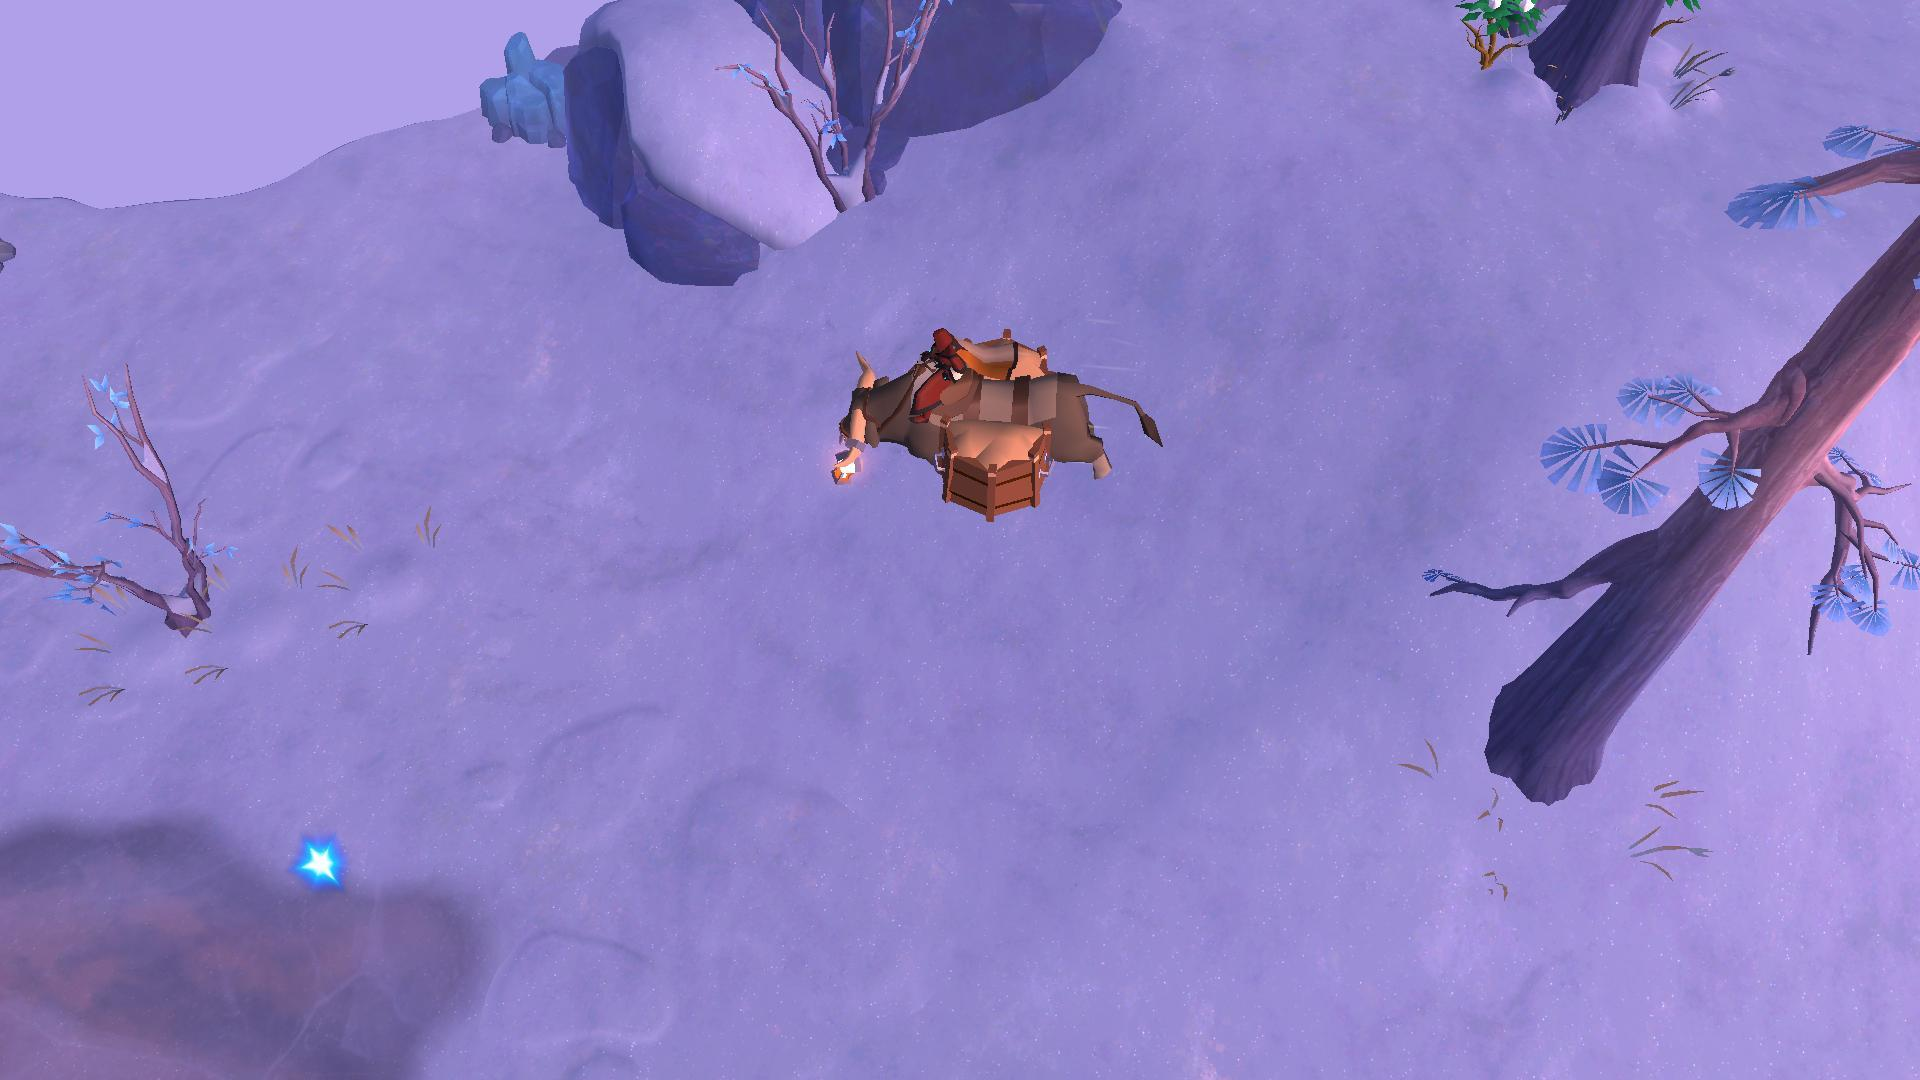fiber_t3: (1453, 0, 1547, 54)
rock_t4: (473, 36, 585, 152)
